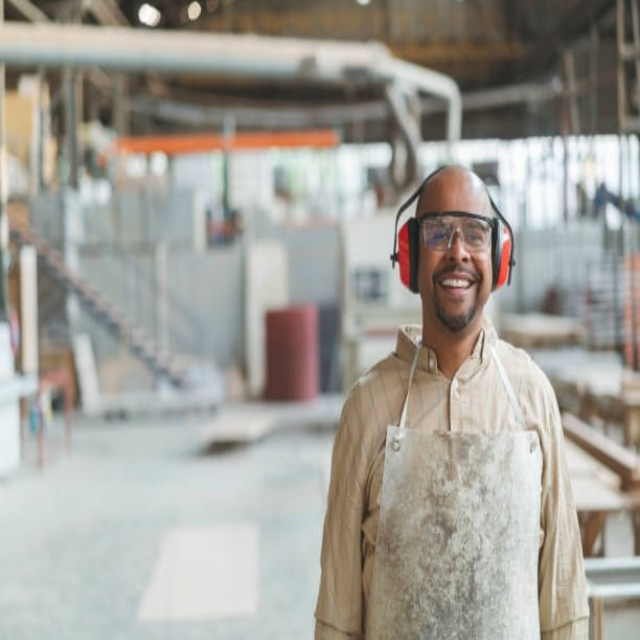Gafas: (417, 215, 497, 253)
Sin_mascara: (432, 262, 479, 318)
